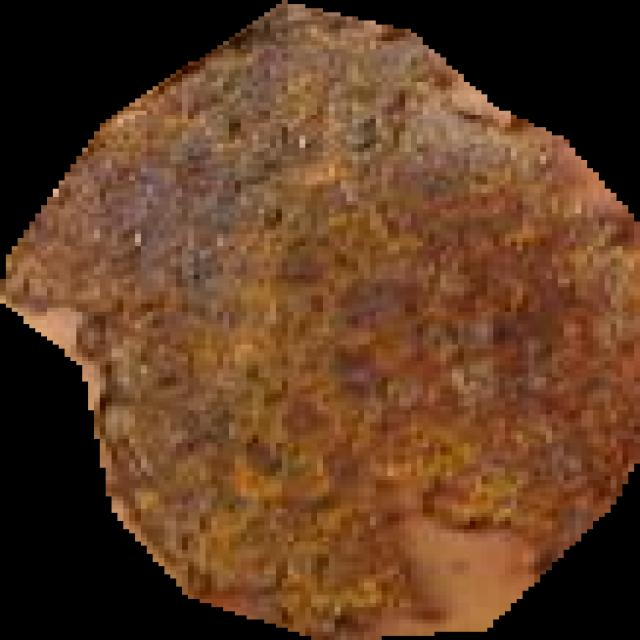Uniform Corrosion: (0, 0, 640, 640)
